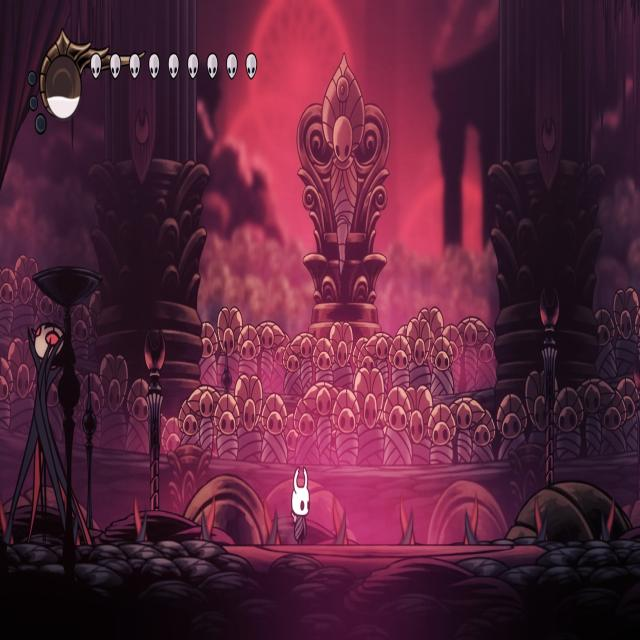Grimm: (3, 316, 79, 540)
Player: (289, 460, 313, 548)
Spikes: (528, 494, 551, 544), (196, 490, 218, 542), (597, 490, 619, 540), (132, 494, 152, 544), (398, 495, 414, 547), (266, 492, 281, 547), (334, 494, 349, 547), (464, 500, 480, 546)
